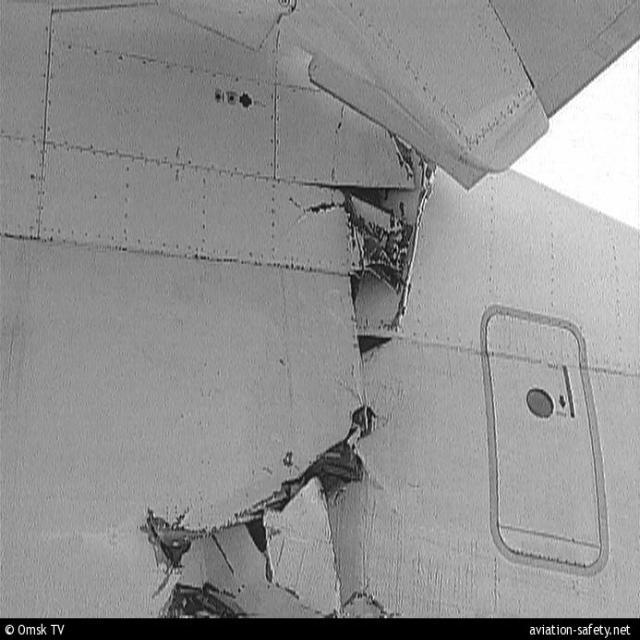Crack: (138, 127, 437, 601)
